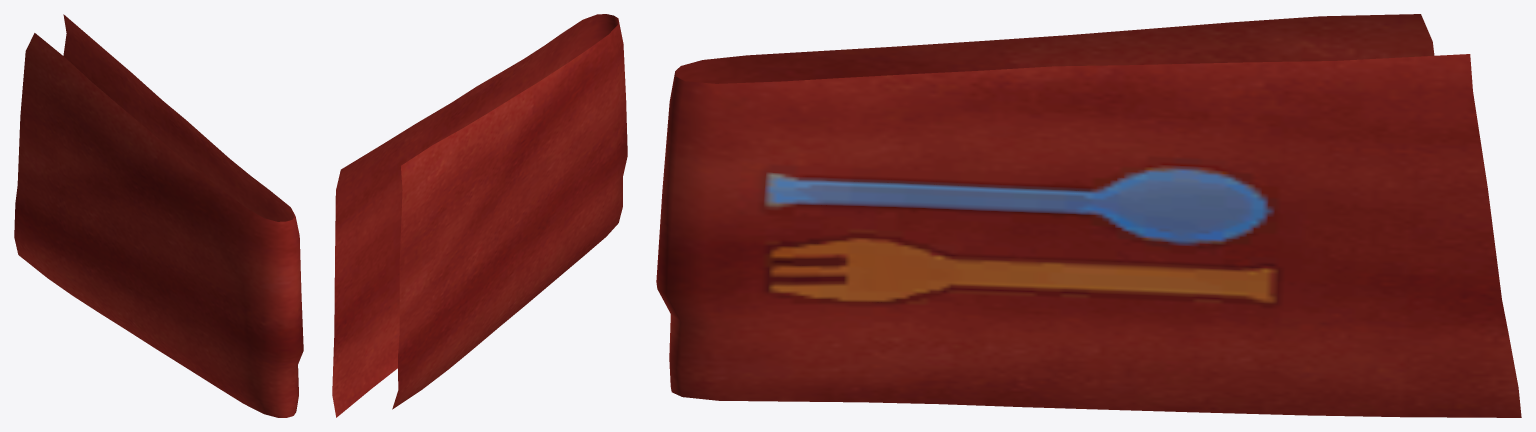
The model's file is nt_2020_towel_kitchen_02_LOD0.obj.
3 renders of one model, left to right at view 1: azimuth 30°, elevation 25°; view 2: azimuth 150°, elevation 25°; view 3: azimuth 270°, elevation 25°, orthographic. The views are drawn at different scales.
Parts seen in each view (by area): view 1: mtl_nt_2020_towel_kitchen_02; view 2: mtl_nt_2020_towel_kitchen_02; view 3: mtl_nt_2020_towel_kitchen_02.
Boxes of the visible parts, left/top/right/bottom form: mtl_nt_2020_towel_kitchen_02: left=14, top=14, right=303, bottom=417; mtl_nt_2020_towel_kitchen_02: left=332, top=14, right=627, bottom=417; mtl_nt_2020_towel_kitchen_02: left=656, top=14, right=1521, bottom=417.
Bounding box in the file's own units: 8.21 × 31.71 × 65.73.
